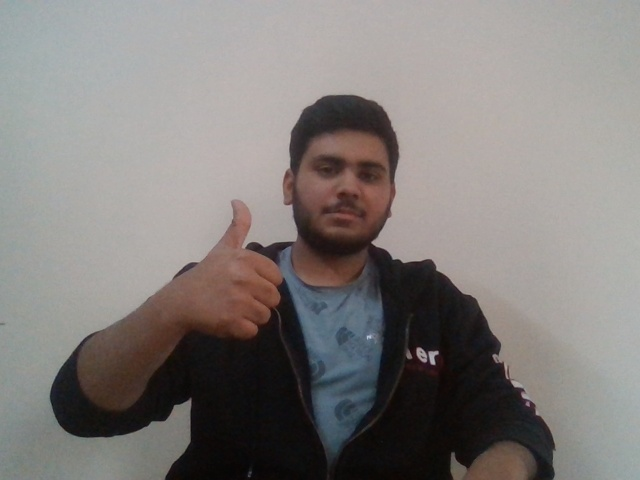Yes: (184, 200, 291, 343)
